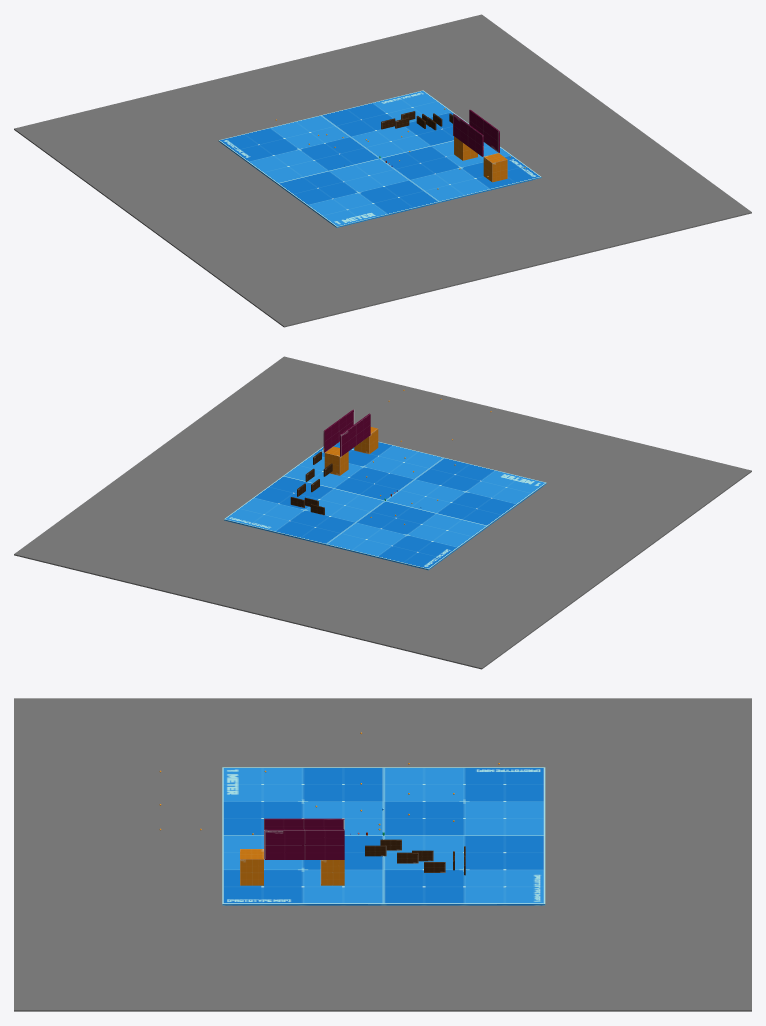
File: Demo.glb
3 renders of one model, top to bottom at view 1: azimuth 30°, elevation 25°; view 2: azimuth 150°, elevation 25°; view 3: azimuth 270°, elevation 25°, orthographic. The views are drawn at different scales.
Visible parts, largest first — view 1: Cube, Geo; view 2: Cube, Geo; view 3: Cube, Geo.
Part boxes in pixels (x1,y1,x2,y2): Cube: (14,14,751,327); Geo: (218,90,541,227); Cube: (14,356,751,669); Geo: (224,409,546,570); Cube: (14,698,751,1011); Geo: (222,767,545,905).
Bounding box in the file's own units: 400 × 48.2 × 400.
11 materials, 10 textured.
